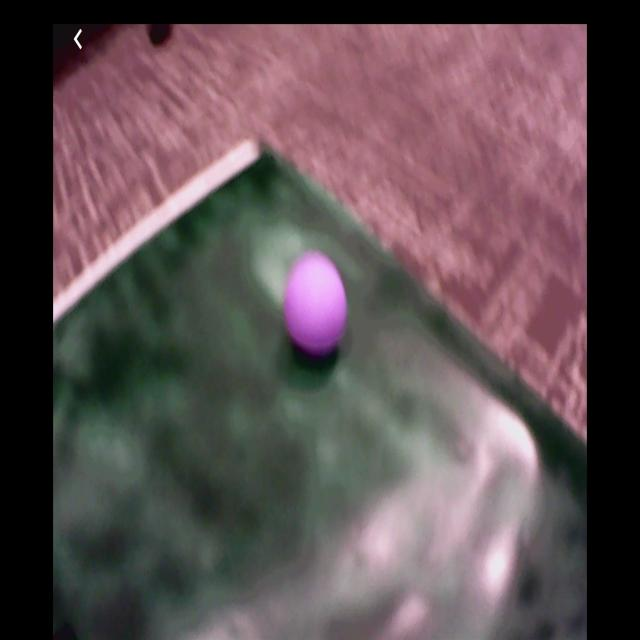ball: (286, 255, 349, 355)
